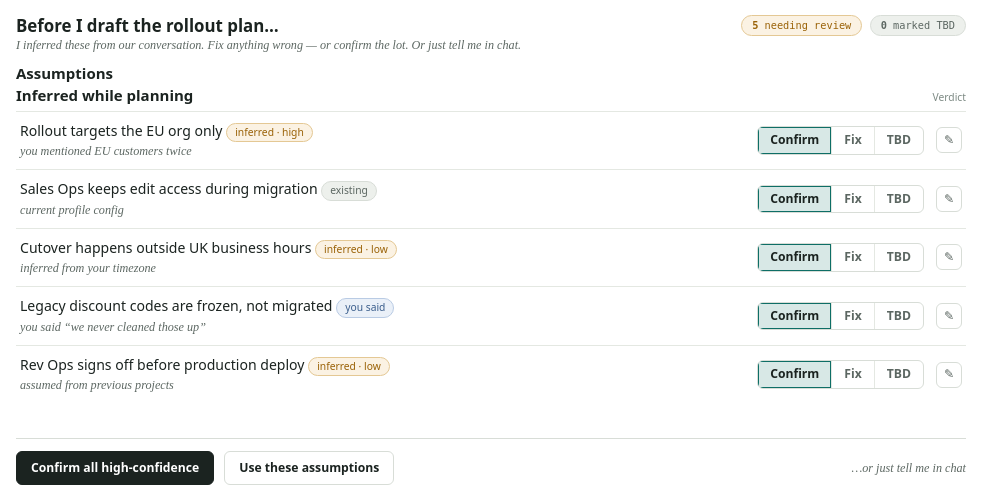
Scenario: the ledger surface › counts by value equality in the header pills
Expected: the element labelled "5 needing review" is shown, [741,15,862,36]
Expected: the element labelled "0 marked TBD" is shown, [870,15,966,36]
Step 1. Click the radio button labelled "TBD" in the row of "inferred · high" → point(898, 140), box [874,127,923,154]
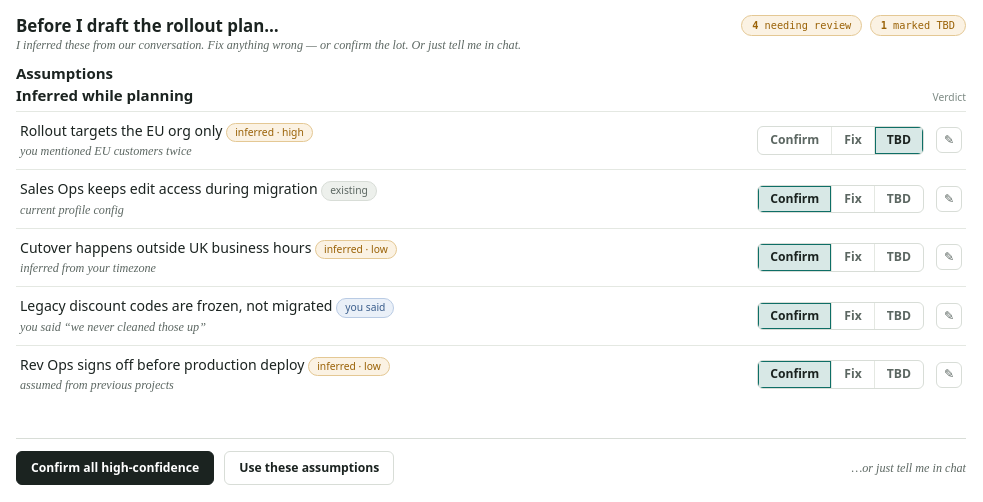
Now the element labelled "1 marked TBD" is shown, box [870,15,966,36]
Now the element labelled "4 needing review" is shown, box [741,15,862,36]
